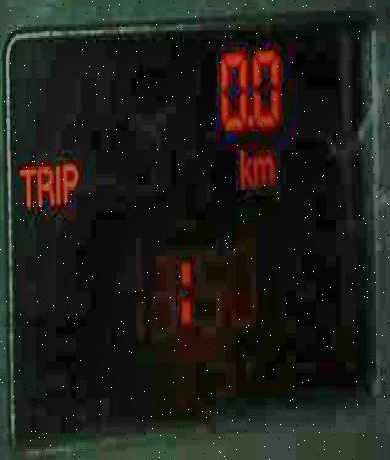-: (246, 109, 252, 129)
0: (252, 46, 281, 124), (220, 51, 246, 129)
X: (175, 249, 195, 331), (18, 160, 35, 209), (252, 153, 273, 188), (62, 160, 78, 202), (37, 162, 52, 206), (237, 142, 251, 188), (55, 160, 61, 206)
